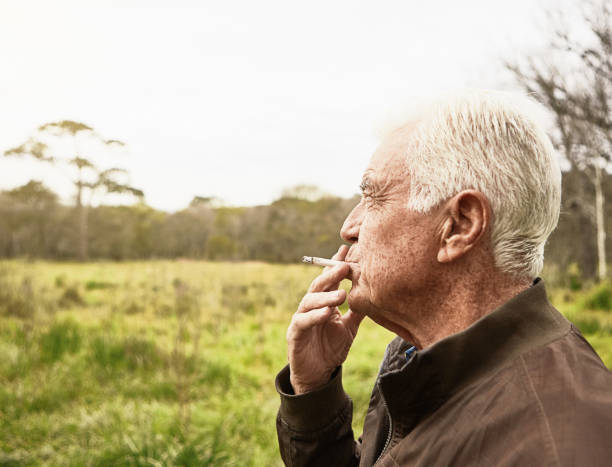cigarette: (301, 256, 347, 268)
